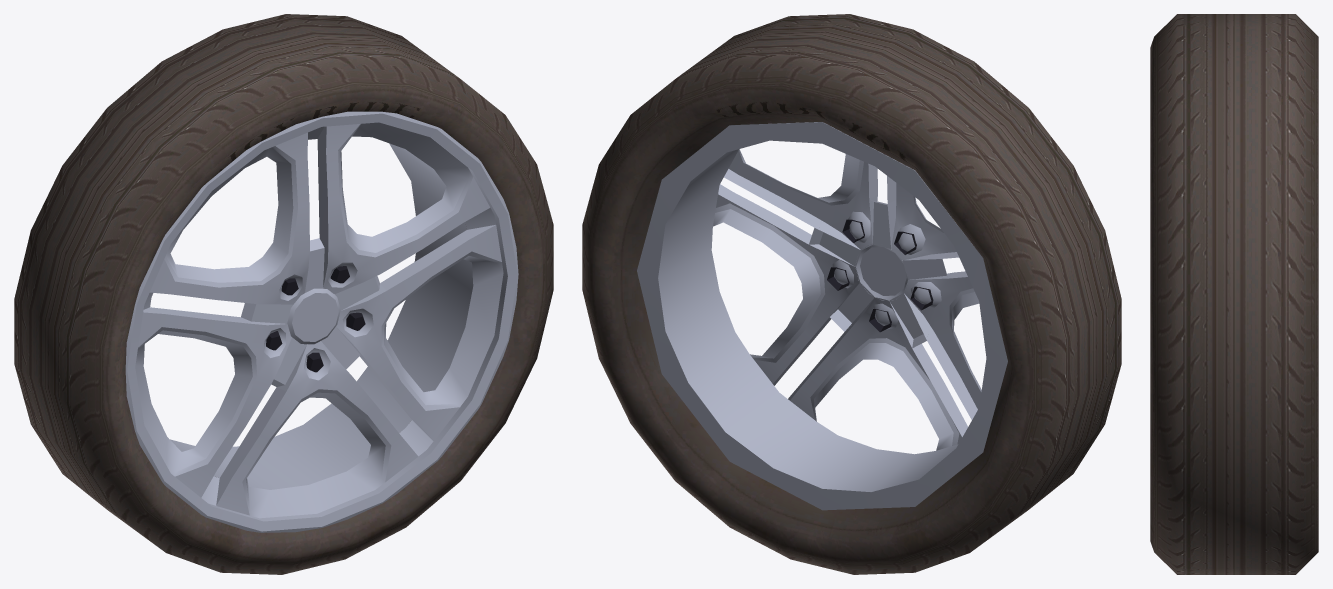
File: SportWheel.fbx
The picture shows the model from 3 angles, left to right: view 1: azimuth 30°, elevation 25°; view 2: azimuth 150°, elevation 25°; view 3: azimuth 270°, elevation 25°; orthographic projection.
Parts seen in each view (by area): view 1: node_id288, node_id292, node_id290; view 2: node_id288, node_id292, node_id290; view 3: node_id292, node_id290.
Part boxes in pixels (x1=…): node_id288: x1=125, y1=111, x2=518, y2=532; node_id292: x1=14, y1=14, x2=553, y2=574; node_id290: x1=104, y1=86, x2=545, y2=562; node_id288: x1=637, y1=122, x2=1007, y2=510; node_id292: x1=582, y1=14, x2=1121, y2=574; node_id290: x1=590, y1=86, x2=1031, y2=562; node_id292: x1=1154, y1=14, x2=1318, y2=574; node_id290: x1=1150, y1=38, x2=1153, y2=550.
Bounding box in the file's own units: 0.512 × 0.512 × 0.1548.
Materials: 3 (3 with a texture image).
